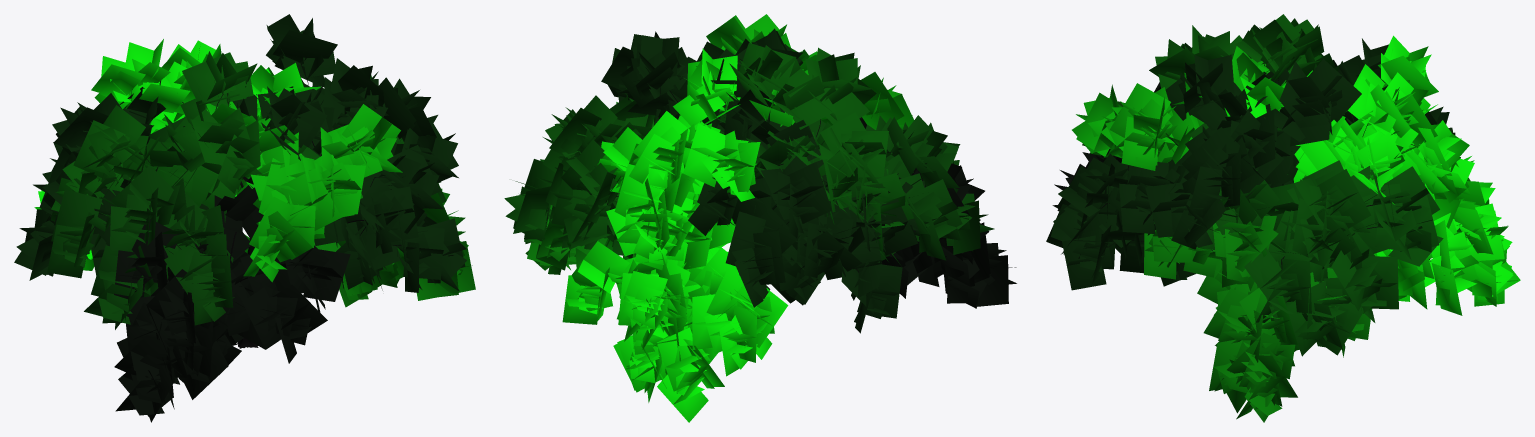
File: Euro_Beech_9.fbx
3 views of the same model, side by side, from view 1: azimuth 30°, elevation 25°; view 2: azimuth 150°, elevation 25°; view 3: azimuth 270°, elevation 25° (orthographic).
Parts seen in each view (by area): view 1: Euro_Beech_9; view 2: Euro_Beech_9; view 3: Euro_Beech_9.
Boxes of the visible parts, x1,y1,x2,y2 form: Euro_Beech_9: [14, 14, 475, 422]; Euro_Beech_9: [504, 14, 1016, 422]; Euro_Beech_9: [1046, 14, 1520, 422].
Bounding box in the file's own units: 1185 × 786 × 1129.
